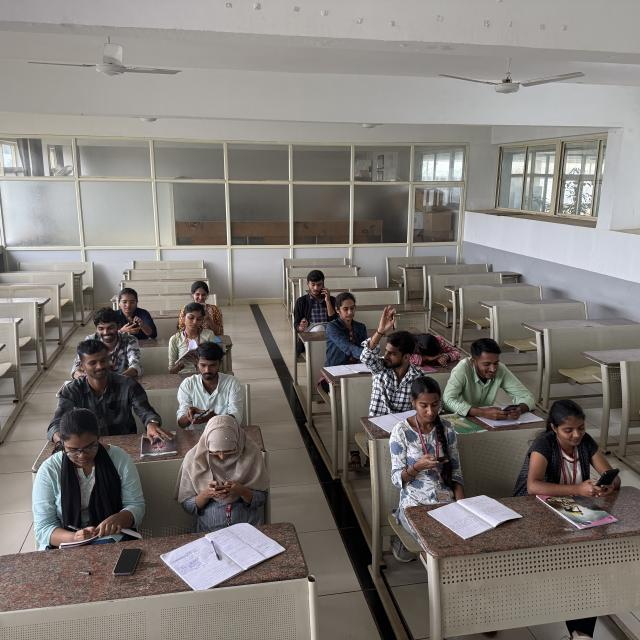Hand Rising: (362, 304, 422, 413)
Reading: (165, 306, 228, 370)
Sleeping: (411, 315, 462, 368)
Using Phone: (518, 400, 625, 505), (176, 416, 275, 522), (391, 372, 466, 493), (448, 338, 540, 423), (174, 346, 246, 429), (286, 264, 340, 330), (109, 288, 162, 342), (174, 283, 228, 331)
Writing: (32, 409, 148, 544)
